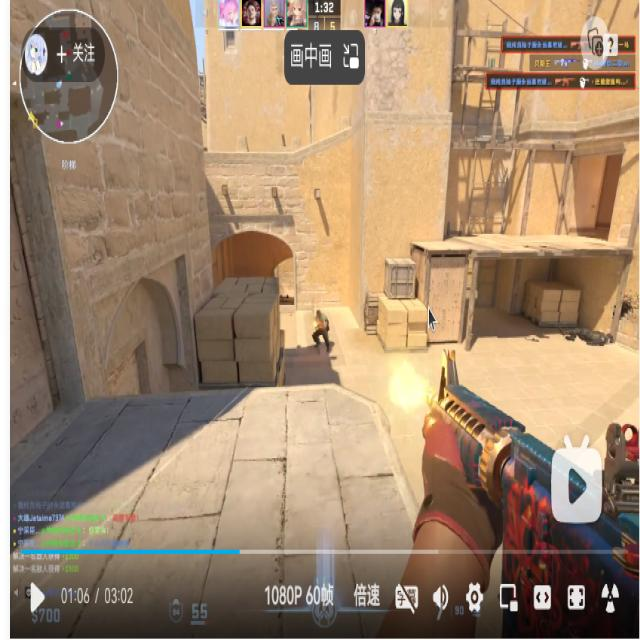person: (312, 309, 330, 352)
